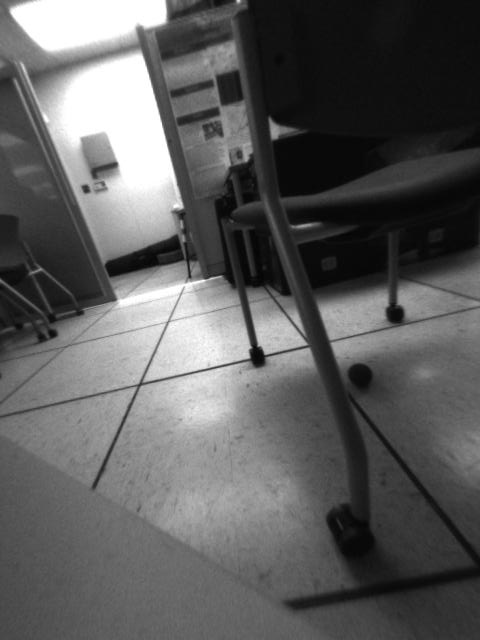dogtoy: (345, 353, 380, 393)
